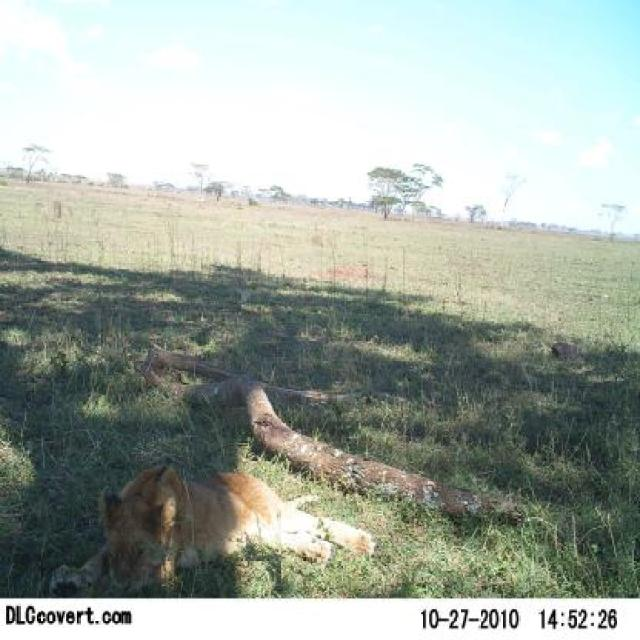Lion: (28, 454, 409, 595)
